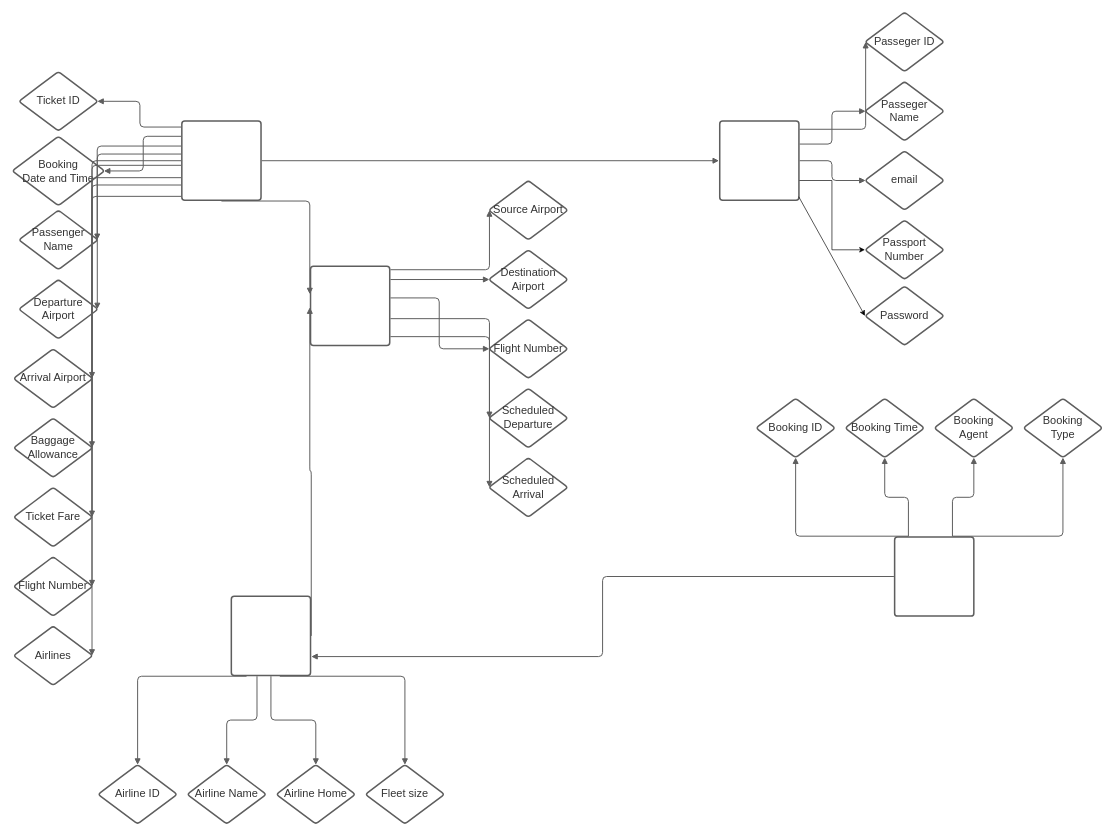
Some shapes in this 1115 by 836 pixel diagram are drawn without their labels. Here are the shapes that lost their labels. From the top down, the box of each, then its label:
(181, 120, 261, 201): Ticket
(719, 120, 799, 201): Passenger
(309, 265, 390, 346): Schedules
(894, 536, 974, 617): Bookings
(230, 595, 311, 676): Airline
